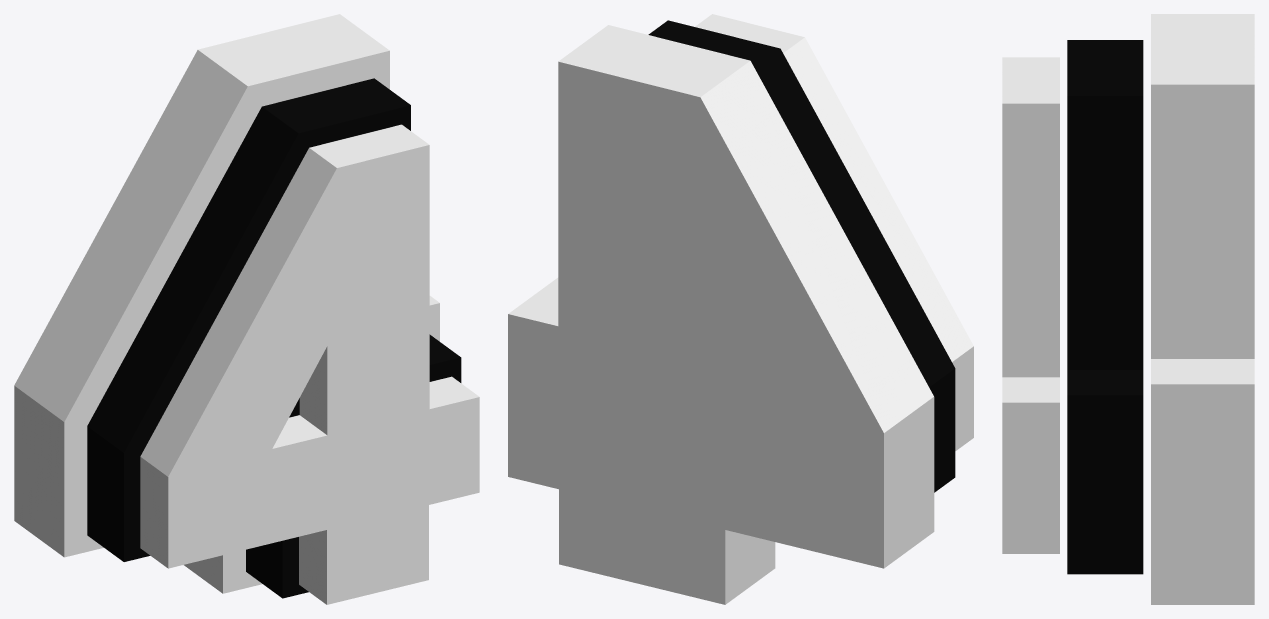
The picture shows the model from 3 angles, left to right: view 1: azimuth 30°, elevation 25°; view 2: azimuth 150°, elevation 25°; view 3: azimuth 270°, elevation 25°; orthographic projection. The views are drawn at different scales.
Parts seen in each view (by area): view 1: テキスト.004_テキスト.001; view 2: テキスト.004_テキスト.001; view 3: テキスト.004_テキスト.001.
Boxes of the visible parts, x1,y1,x2,y2 form: テキスト.004_テキスト.001: (14,14,479,604); テキスト.004_テキスト.001: (508,14,973,604); テキスト.004_テキスト.001: (1002,14,1254,604).
Bounding box in the file's own units: 0.5857 × 0.7482 × 0.3291.
1 material, 1 textured.
